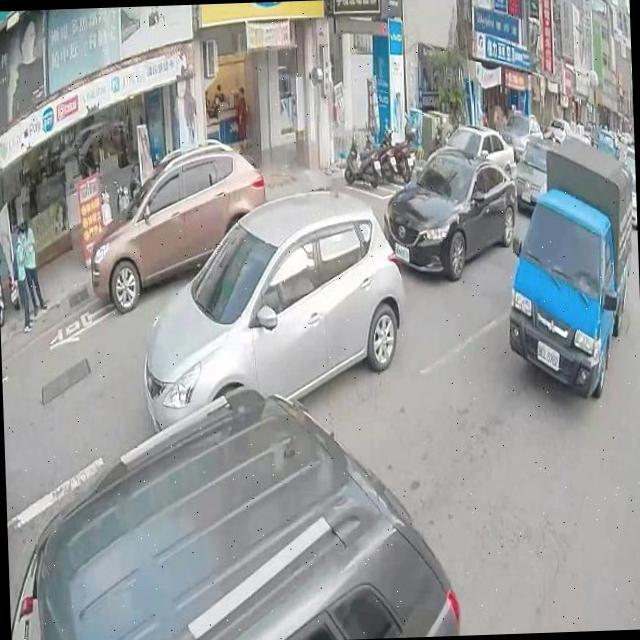person: (21, 218, 47, 322), (11, 223, 34, 332), (228, 85, 250, 144)
